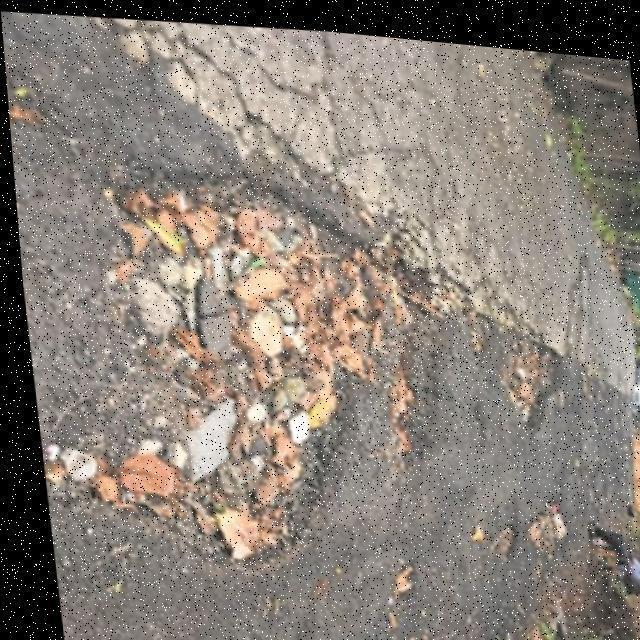Pothole: (70, 168, 443, 568), (500, 341, 568, 431), (482, 526, 518, 561)
